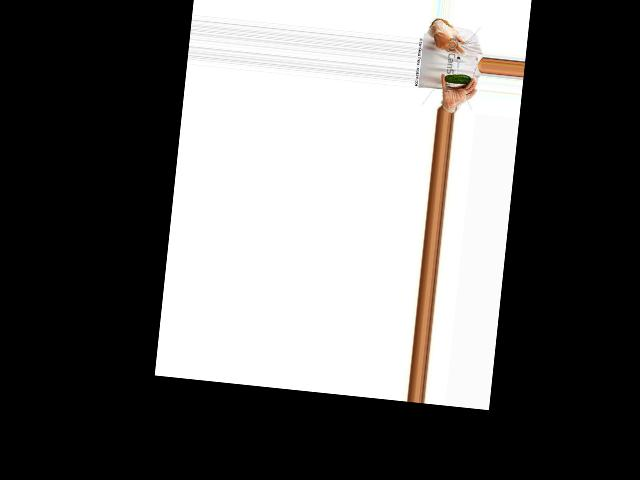cucumber: (443, 73, 471, 85)
